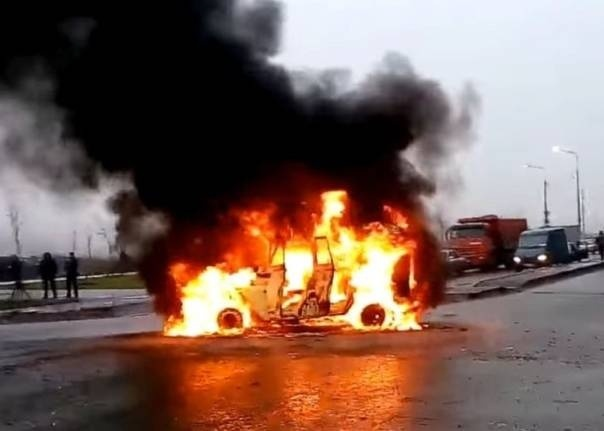fire: (159, 184, 425, 339)
